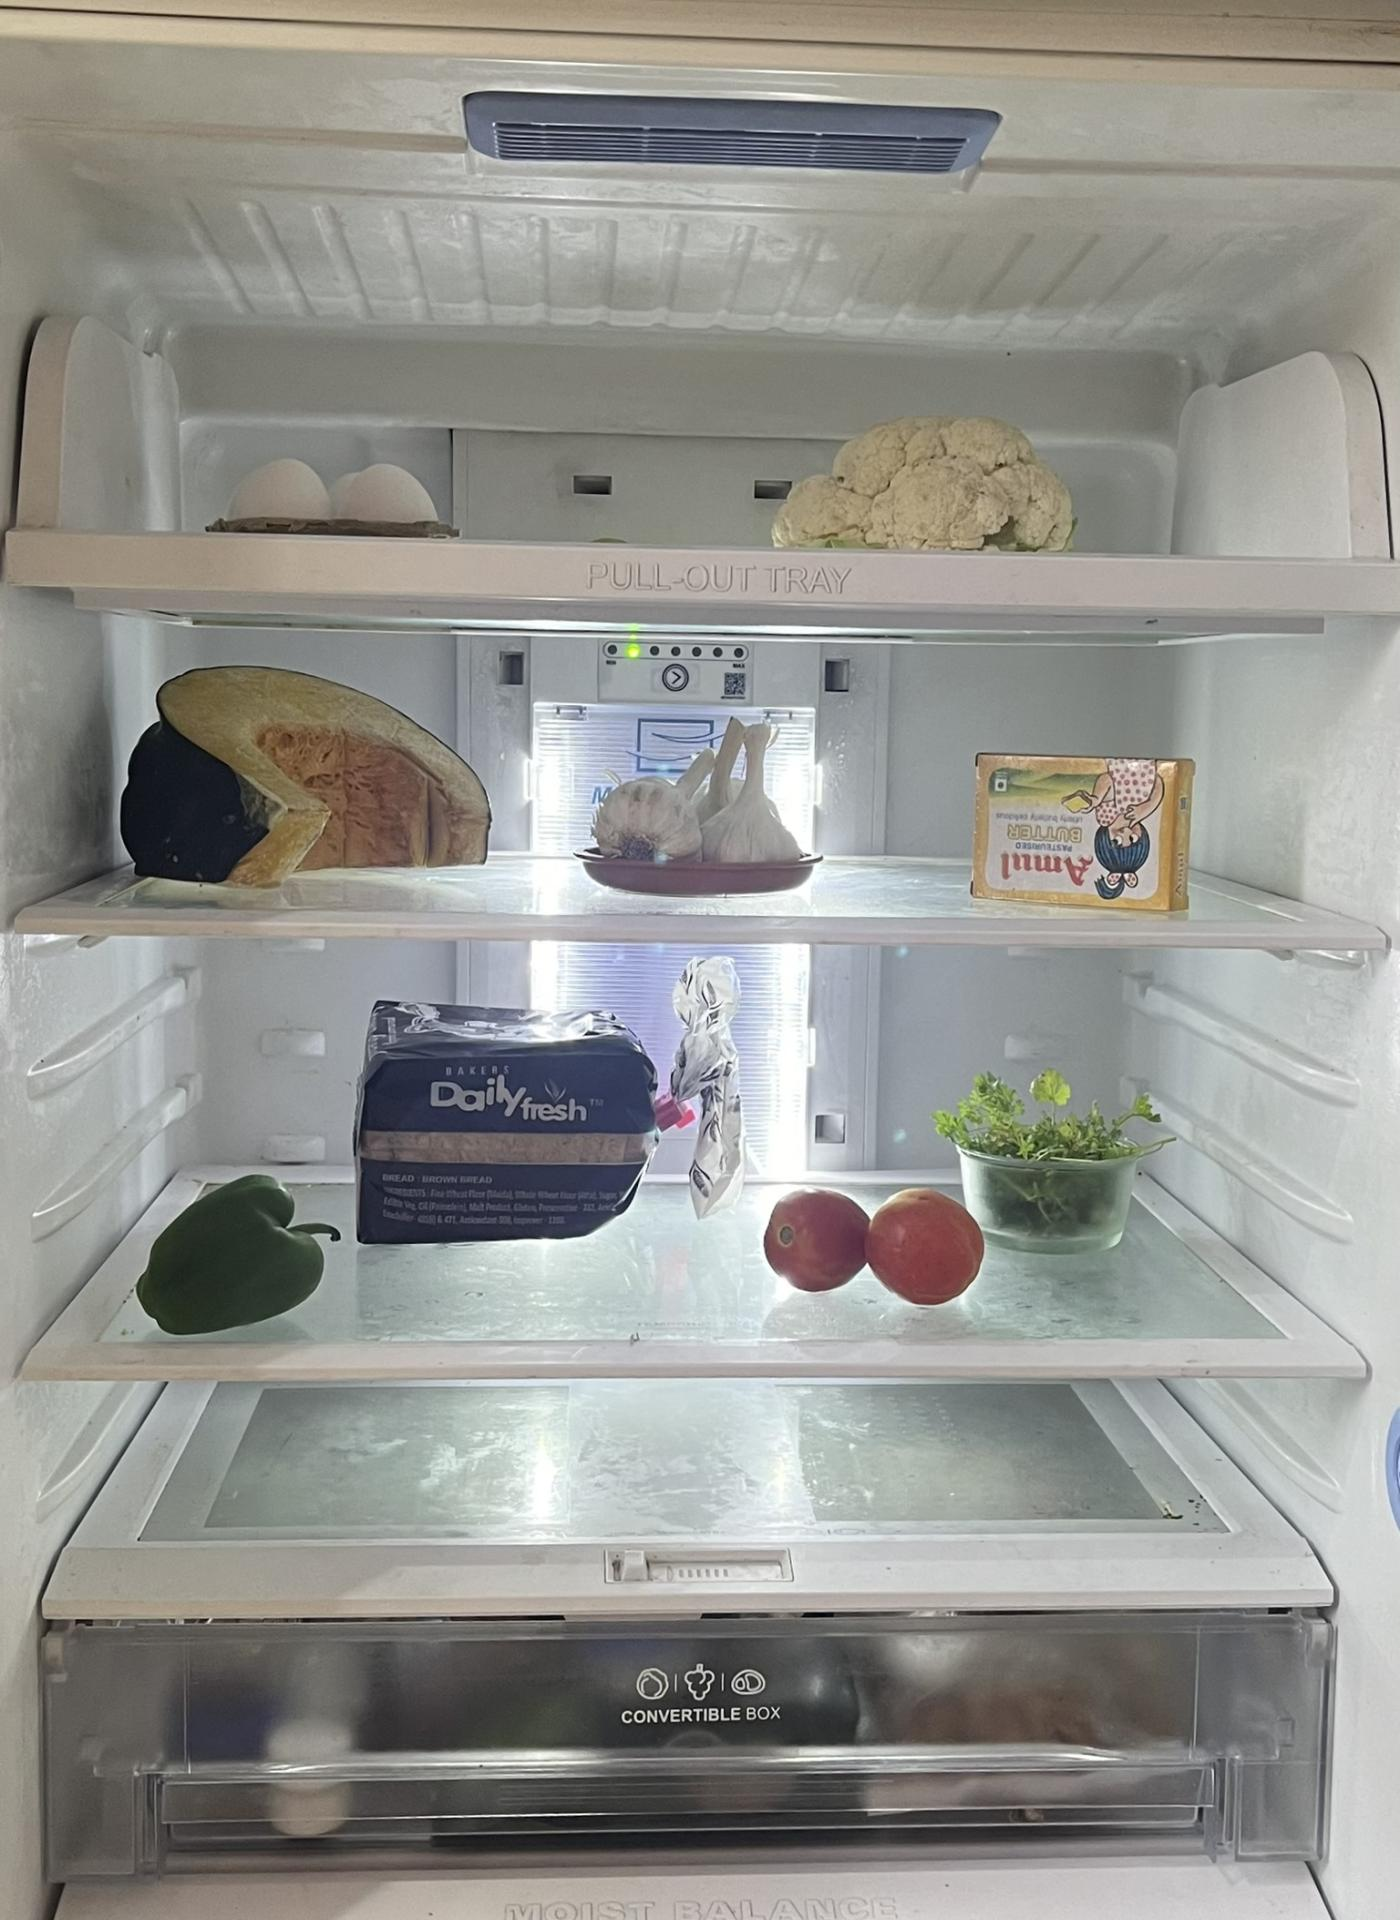bread: (353, 963, 748, 1243)
butter: (969, 745, 1199, 912)
capsicum: (143, 1175, 343, 1328)
cauliflower: (774, 422, 1084, 544)
coriander: (938, 1058, 1157, 1237)
egg: (215, 456, 461, 540)
garlic: (587, 701, 822, 877)
pumpkin: (116, 653, 495, 882)
tomato: (759, 1185, 984, 1307)
